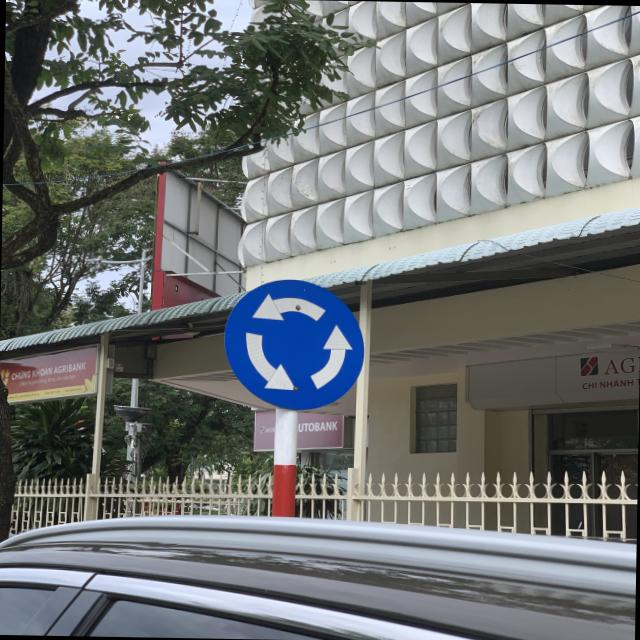Xe_Bus: (221, 277, 365, 411)
